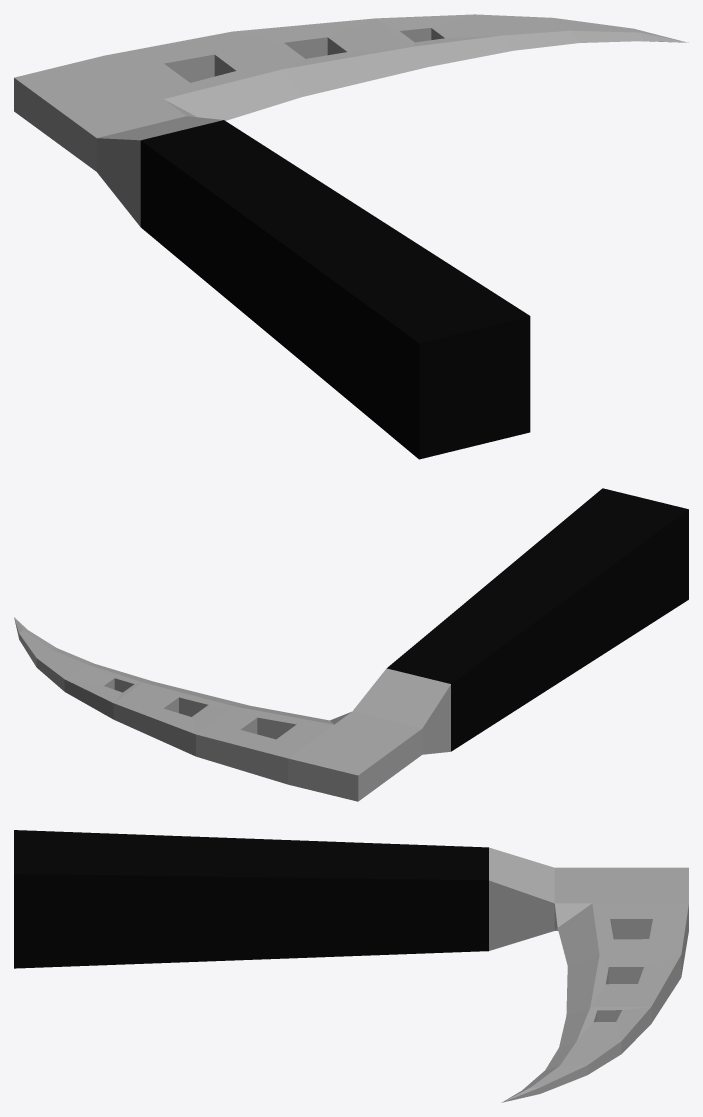
Rendered from Small Kama - Textured Low Poly Asian Weapon Pack by Kickin It Studios.fbx.
3 renders of one model, top to bottom at view 1: azimuth 30°, elevation 25°; view 2: azimuth 150°, elevation 25°; view 3: azimuth 270°, elevation 25°, orthographic. The views are drawn at different scales.
Visible parts, largest first — view 1: Small Kama; view 2: Small Kama; view 3: Small Kama.
Part boxes in pixels (bbox=[...]): Small Kama: bbox=[14, 14, 688, 459]; Small Kama: bbox=[14, 488, 688, 801]; Small Kama: bbox=[14, 830, 688, 1102].
Size of the model in its own units: 145 by 28.38 by 184.
